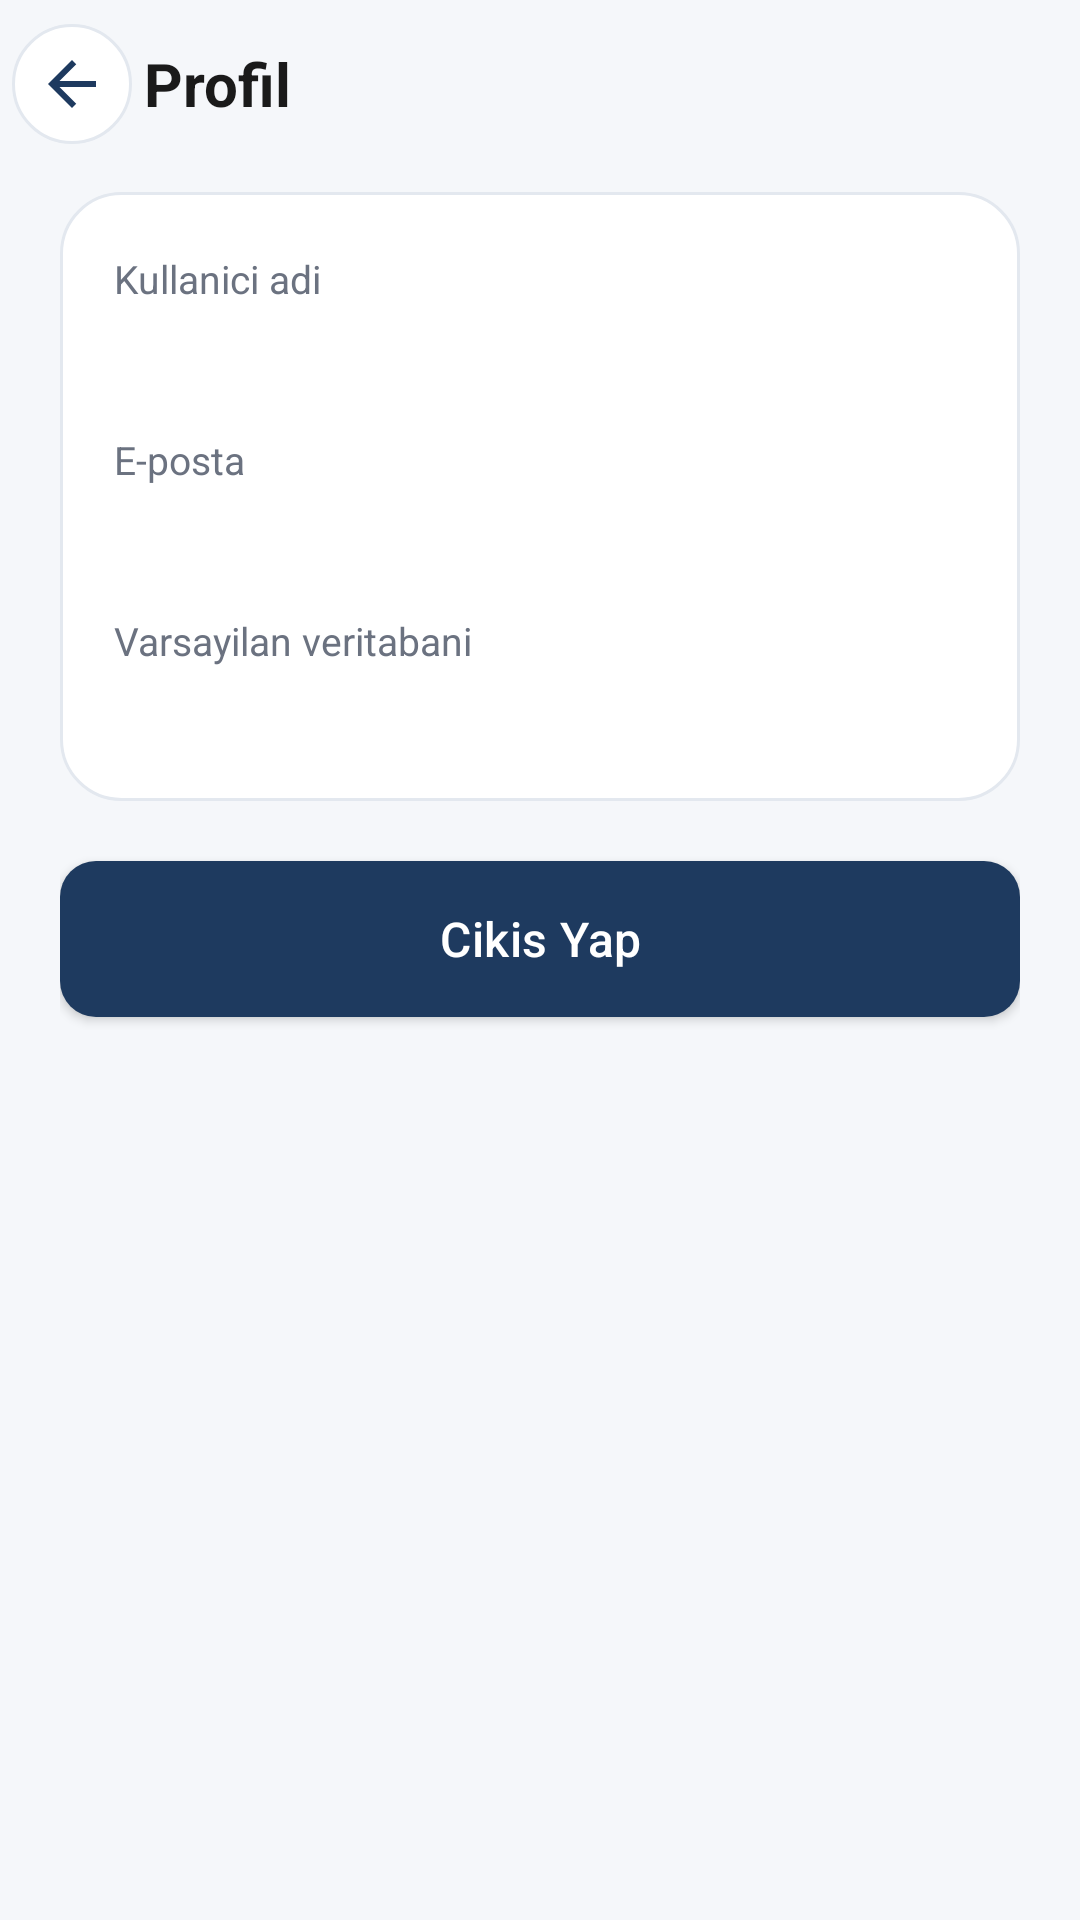

Icons on this 1080 x 1920 Android screen, each with the point to tap as [x,y]:
Geri: [72,84]
